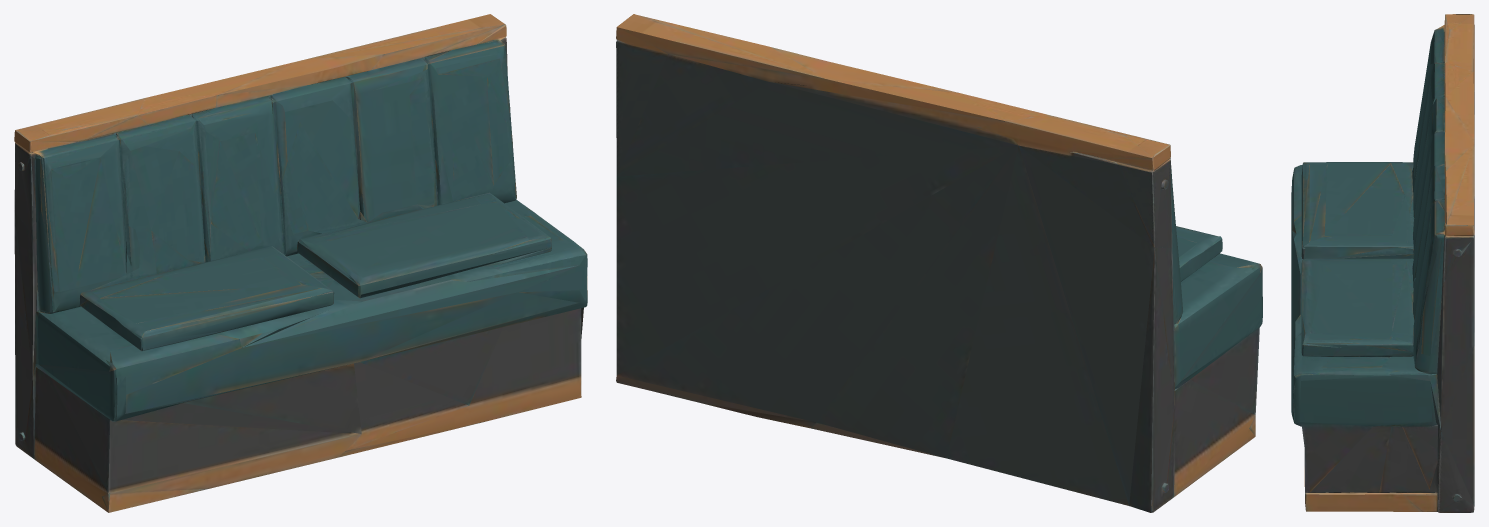
The model's file is boothBench.glb.
3 views of the same model, side by side, from view 1: azimuth 30°, elevation 25°; view 2: azimuth 150°, elevation 25°; view 3: azimuth 270°, elevation 25° (orthographic). The views are drawn at different scales.
Parts seen in each view (by area): view 1: Mesh_0; view 2: Mesh_0; view 3: Mesh_0.
Boxes of the visible parts, box(x1,y1,x2,y2) form: Mesh_0: box(14, 14, 587, 512); Mesh_0: box(616, 14, 1262, 512); Mesh_0: box(1291, 14, 1474, 512).
Size of the model in its own units: 1.3 by 0.8175 by 0.4711.
Materials: 1 (1 with a texture image).
